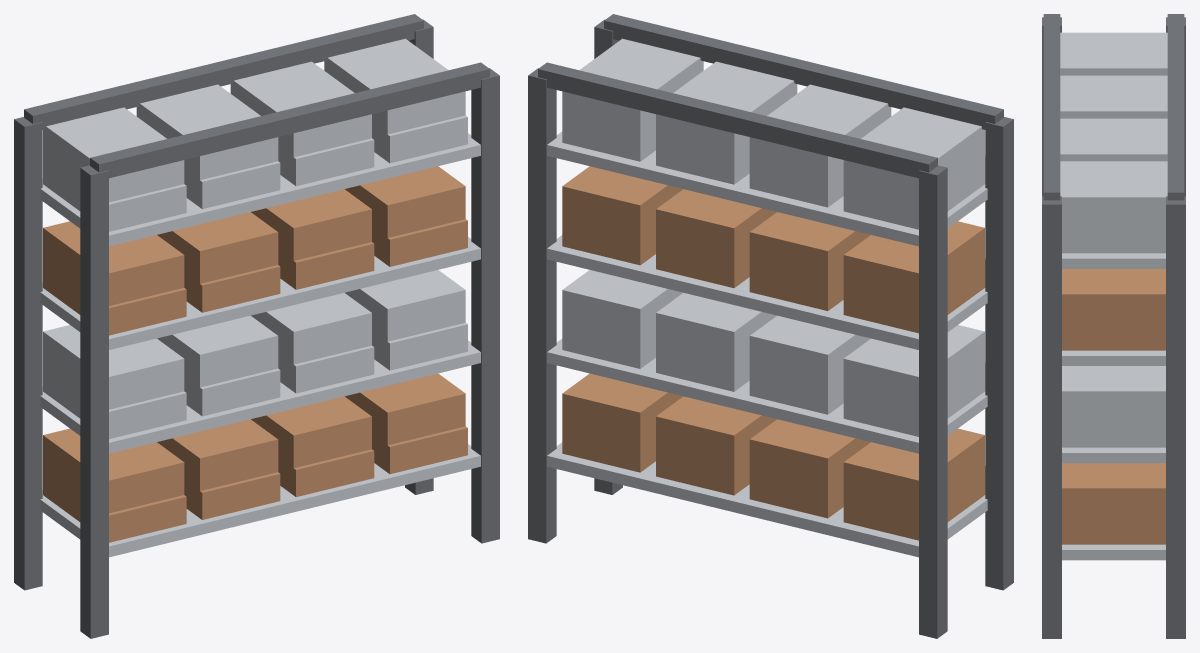
The model's file is steampunk-airship-dock-and-workshop-parts-bin-rack-0547387b.glb.
3 renders of one model, left to right at view 1: azimuth 30°, elevation 25°; view 2: azimuth 150°, elevation 25°; view 3: azimuth 270°, elevation 25°, orthographic. The views are drawn at different scales.
Parts seen in each view (by area): view 1: parts-bin-rack; view 2: parts-bin-rack; view 3: parts-bin-rack.
Boxes of the visible parts, bbox=[...] form: parts-bin-rack: bbox=[14, 14, 499, 638]; parts-bin-rack: bbox=[528, 14, 1013, 638]; parts-bin-rack: bbox=[1042, 14, 1185, 638].
Size of the model in its own units: 1.57 by 1.73 by 0.5101.
